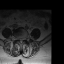CCS_normal: (20, 36, 22, 44)
LFS_stenosis: (23, 36, 25, 41)
LLS_normal: (22, 36, 23, 43)
RFS_stenosis: (16, 36, 18, 41)
RLS_stenosis: (18, 36, 20, 42)
